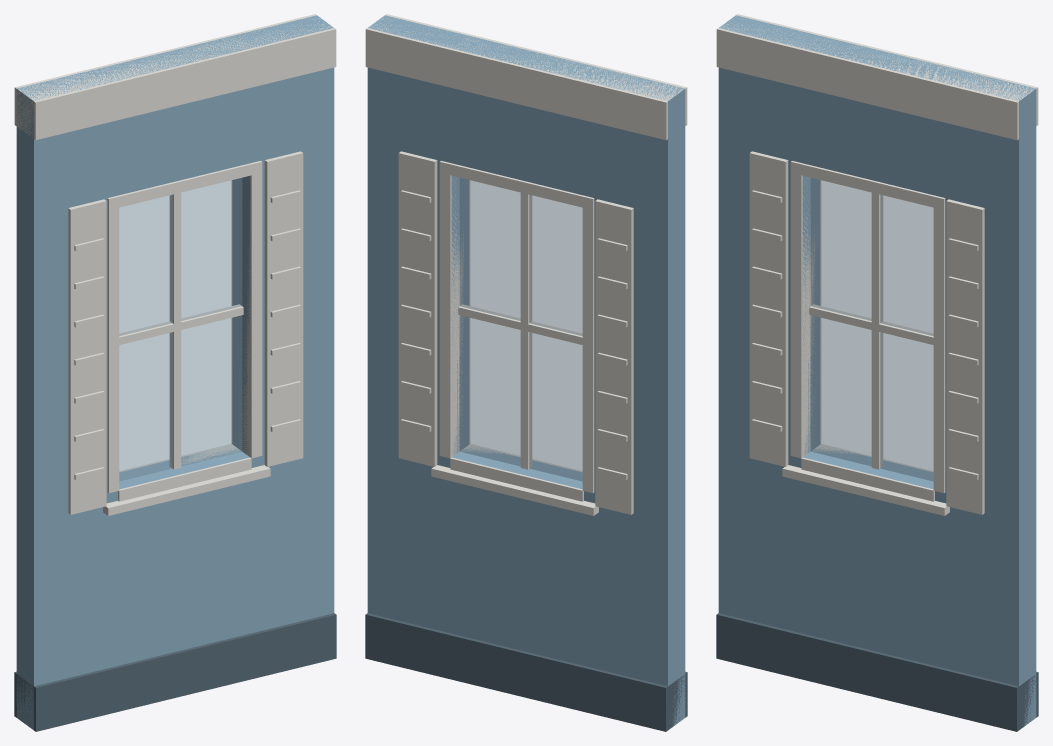
Rendered from mod-reboco-azul-janela.gltf.
3 renders of one model, left to right at view 1: azimuth 30°, elevation 25°; view 2: azimuth 150°, elevation 25°; view 3: azimuth 330°, elevation 25°, orthographic.
Visible parts, largest first — view 1: mod-reboco-azul-janela; view 2: mod-reboco-azul-janela; view 3: mod-reboco-azul-janela.
Boxes of the visible parts, x1,y1,x2,y2 form: mod-reboco-azul-janela: (14, 14, 336, 731); mod-reboco-azul-janela: (365, 14, 687, 731); mod-reboco-azul-janela: (716, 14, 1038, 731).
Bounding box in the file's own units: 1 × 2 × 0.16.
